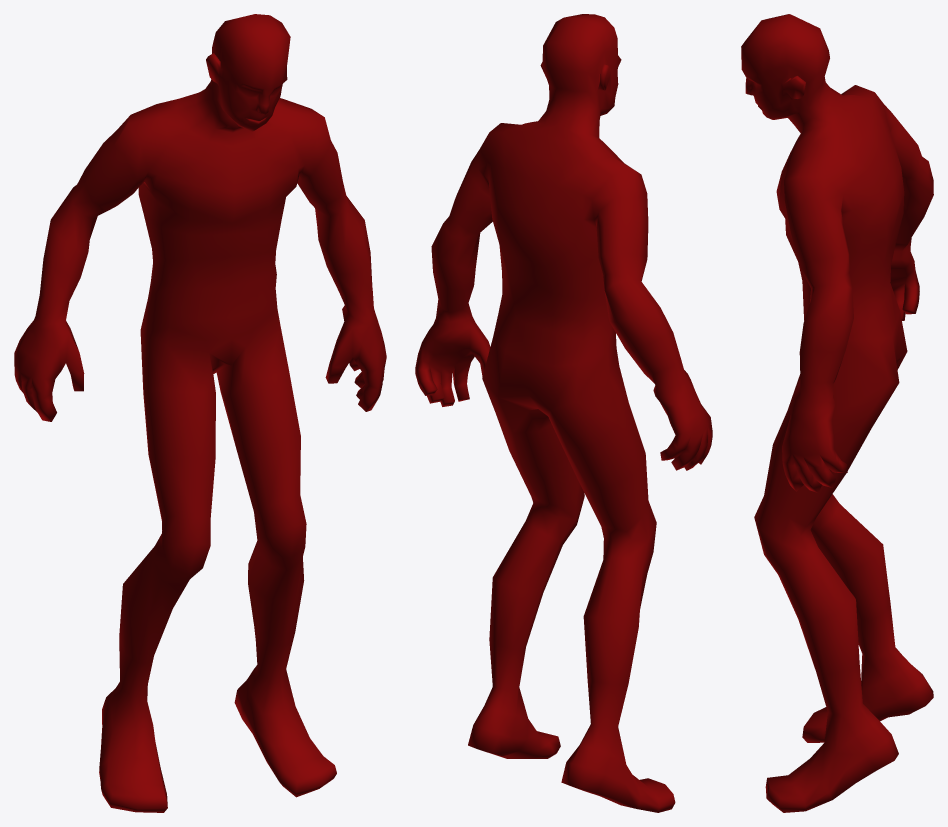
File: attack_11.obj
The picture shows the model from 3 angles, left to right: view 1: azimuth 30°, elevation 25°; view 2: azimuth 150°, elevation 25°; view 3: azimuth 270°, elevation 25°; orthographic projection. The views are drawn at different scales.
Parts seen in each view (by area): view 1: Low_Poly_Characte.000_Mesh.001; view 2: Low_Poly_Characte.000_Mesh.001; view 3: Low_Poly_Characte.000_Mesh.001.
Boxes of the visible parts, x1,y1,x2,y2 form: Low_Poly_Characte.000_Mesh.001: (14,14,386,812); Low_Poly_Characte.000_Mesh.001: (415,14,712,812); Low_Poly_Characte.000_Mesh.001: (741,14,933,812).
Size of the model in its own units: 1.36 by 3.1 by 0.7117.
